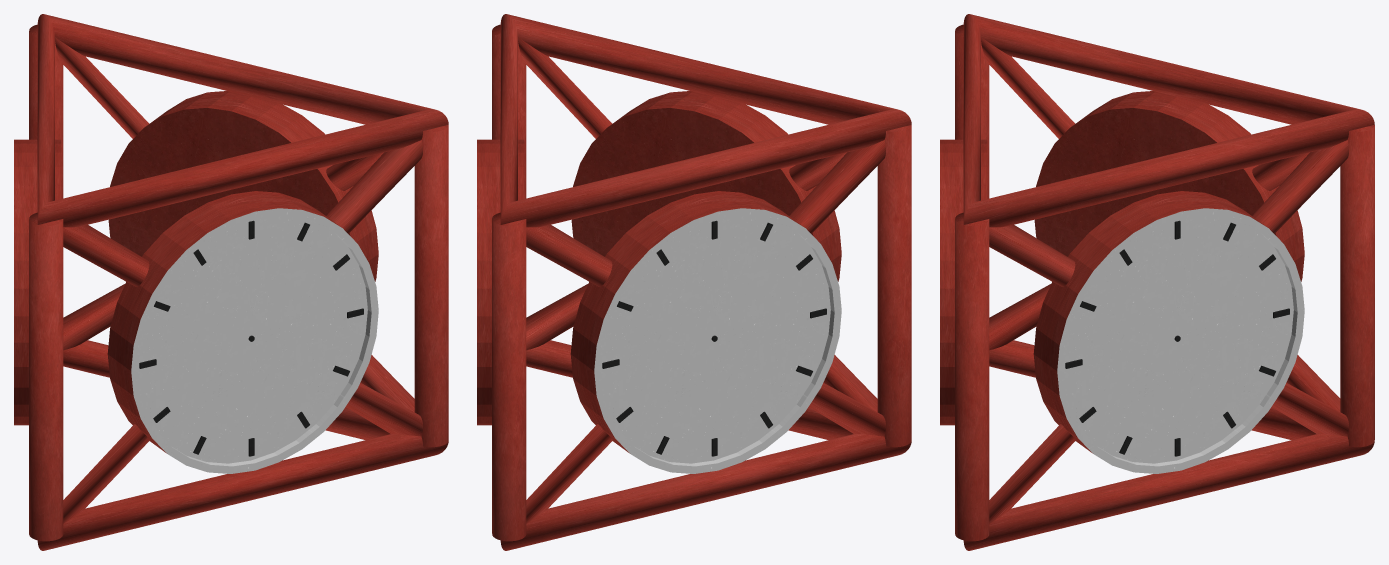
The model's file is TowerHead.fbx.
3 views of the same model, side by side, from view 1: azimuth 30°, elevation 25°; view 2: azimuth 150°, elevation 25°; view 3: azimuth 270°, elevation 25° (orthographic).
Visible parts, largest first — view 1: TowerHead; view 2: TowerHead; view 3: TowerHead.
Part boxes in pixels (x1=…): TowerHead: x1=14, y1=14, x2=448, y2=550; TowerHead: x1=477, y1=14, x2=911, y2=550; TowerHead: x1=940, y1=14, x2=1374, y2=550.
Size of the model in its own units: 3209 by 2560 by 2910.
